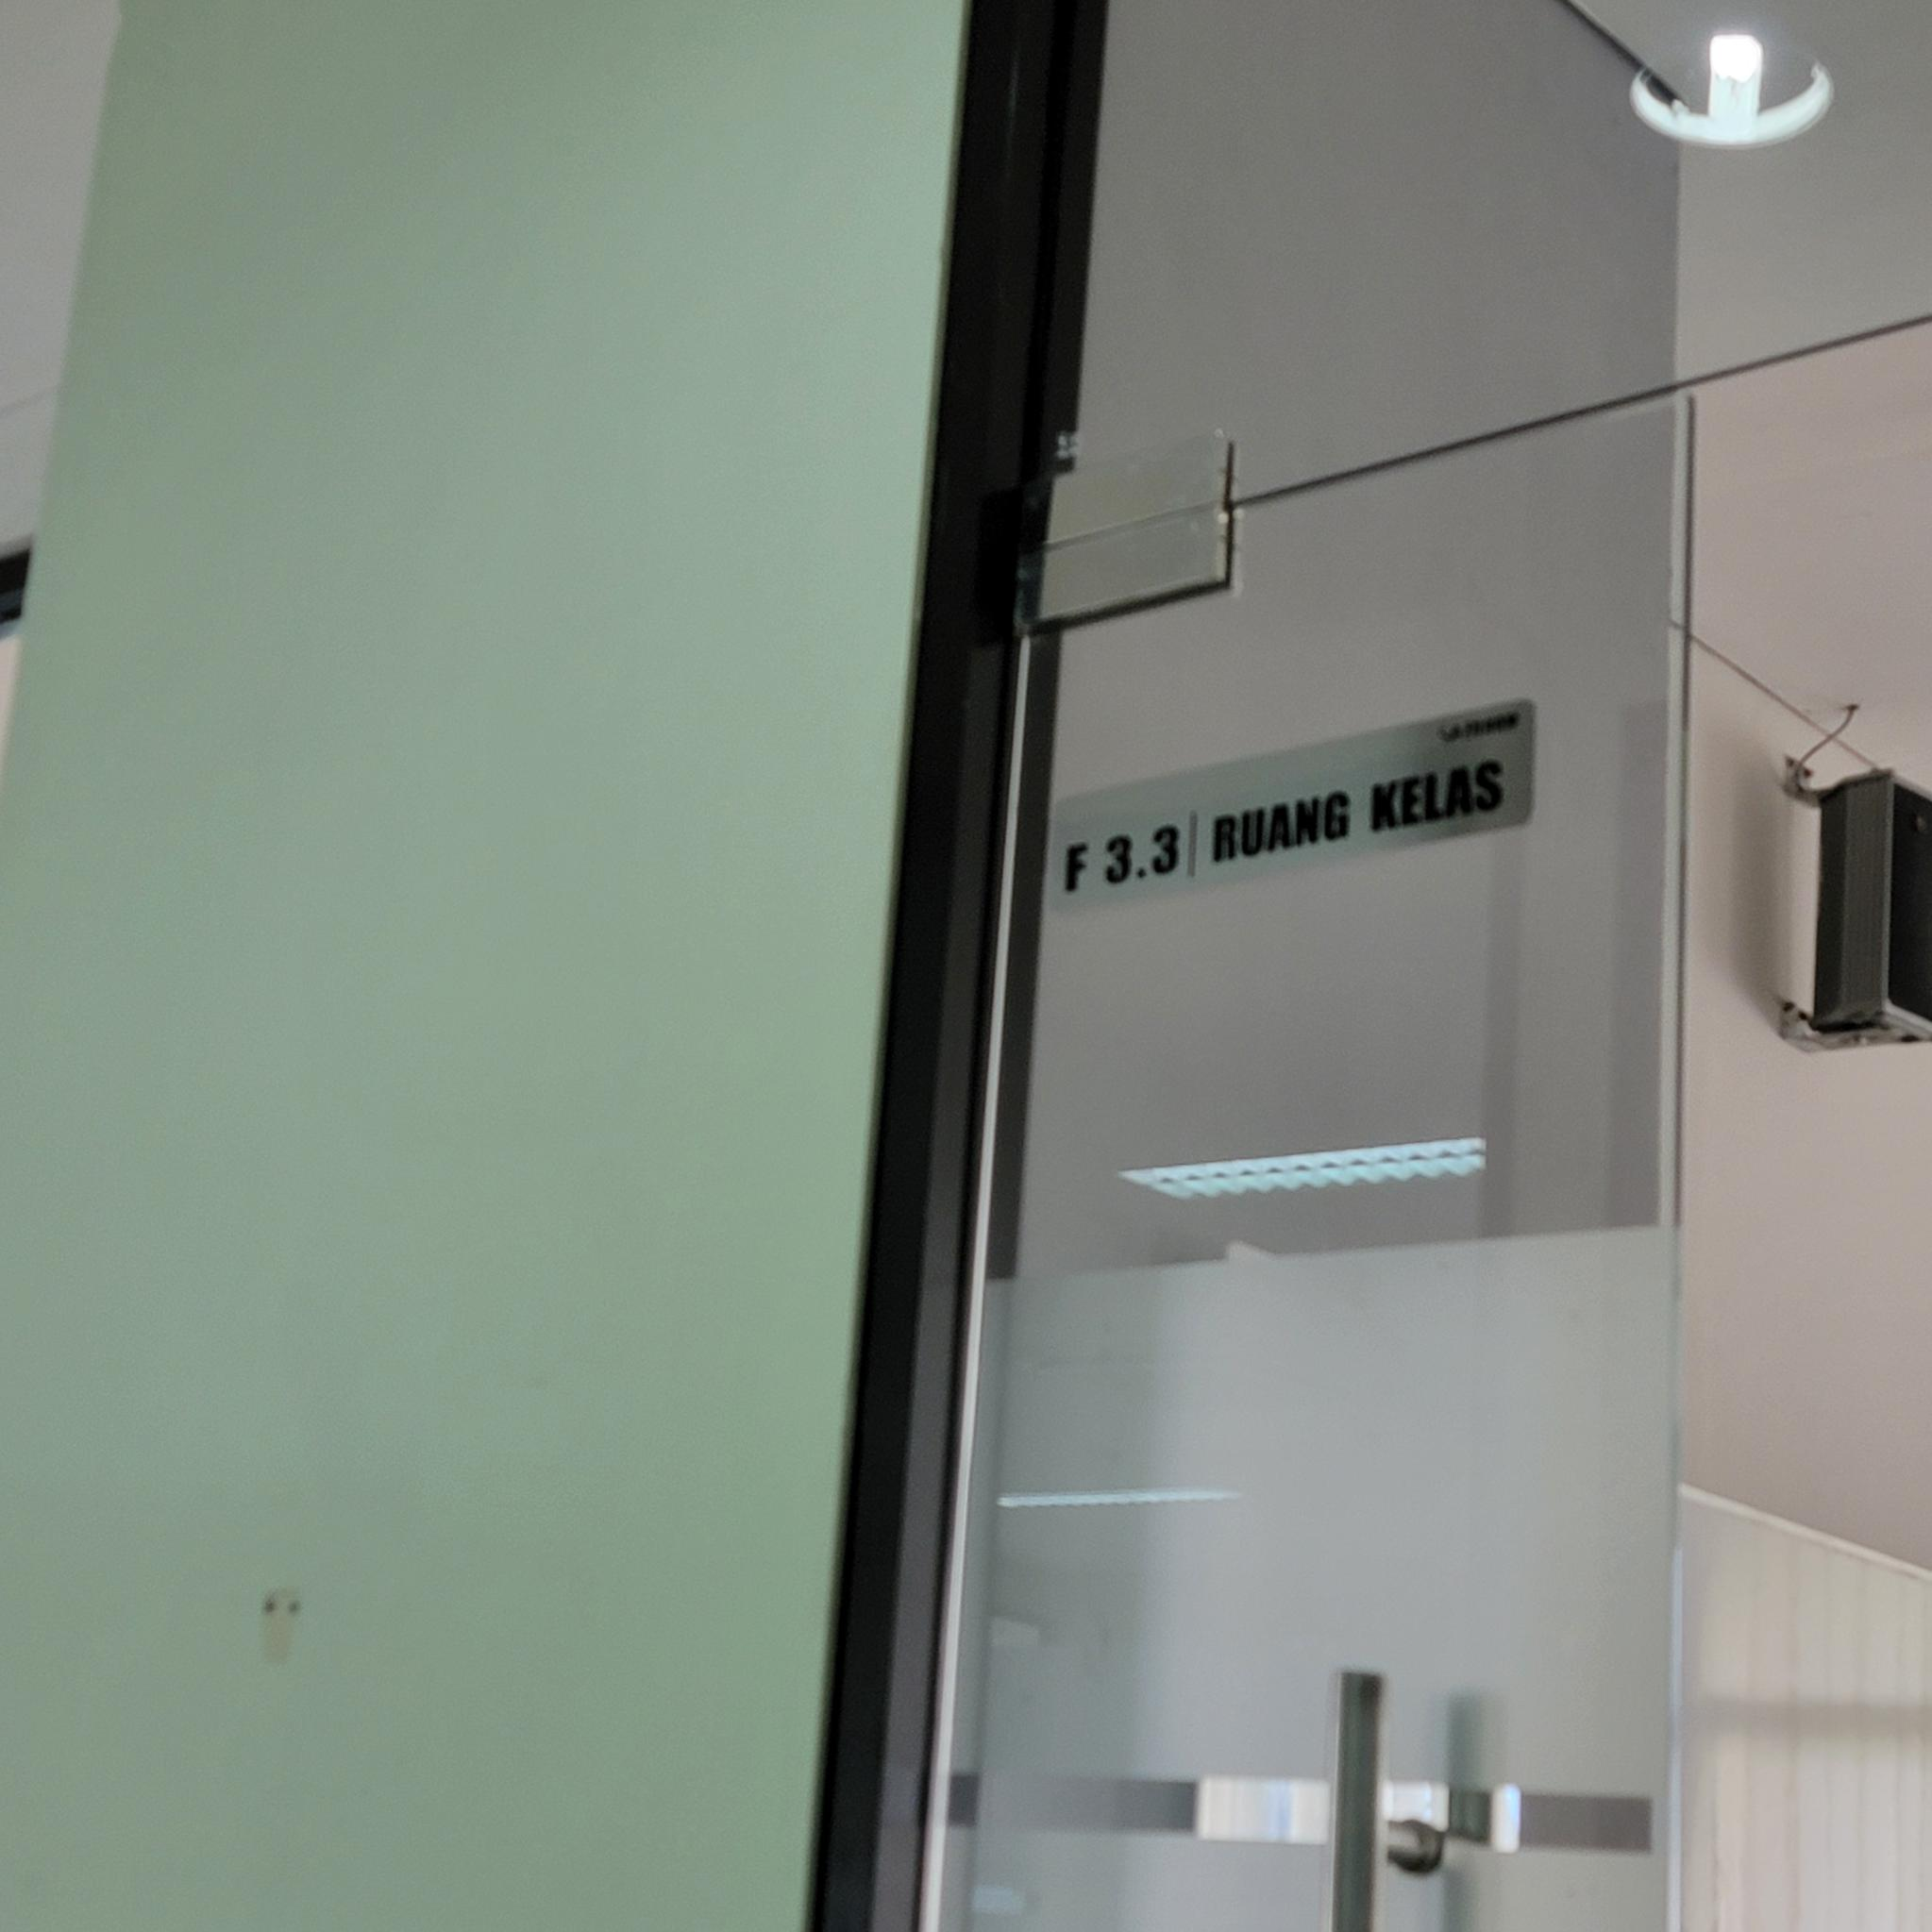plate: (1046, 697, 1543, 918)
